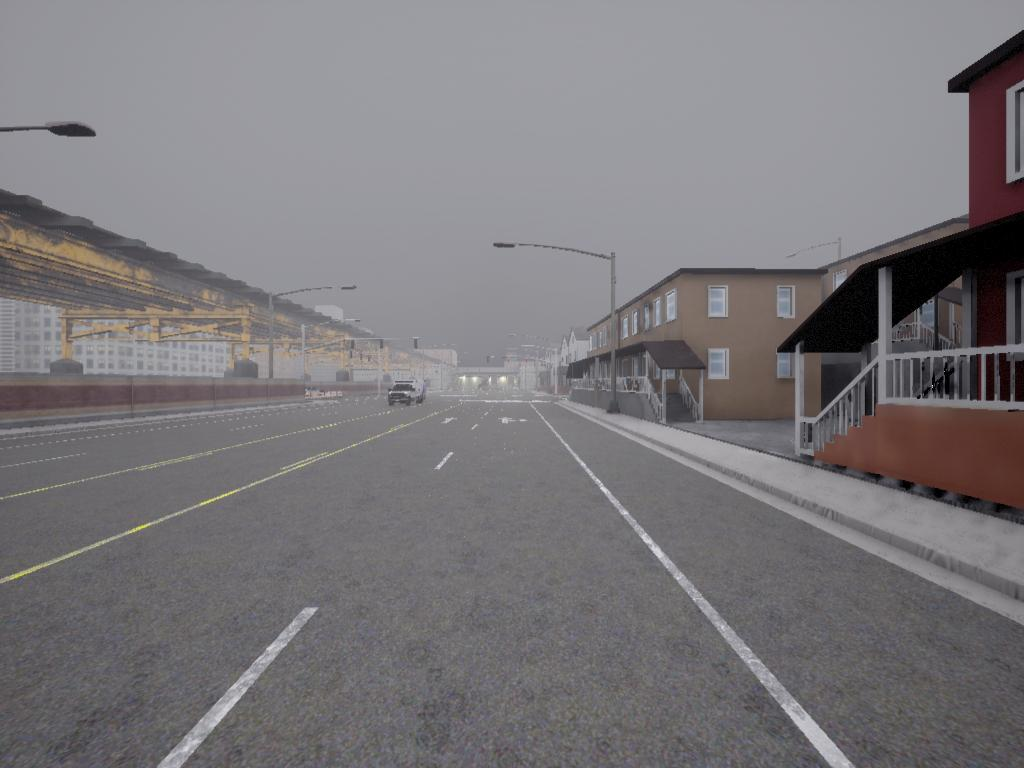traffic_light: (414, 339, 419, 351), (380, 340, 385, 350), (352, 341, 356, 351), (368, 355, 372, 365), (350, 353, 354, 360), (508, 357, 511, 365), (526, 357, 529, 365), (487, 357, 490, 364), (361, 354, 363, 363), (498, 375, 501, 381), (489, 375, 491, 380), (506, 376, 508, 381)
